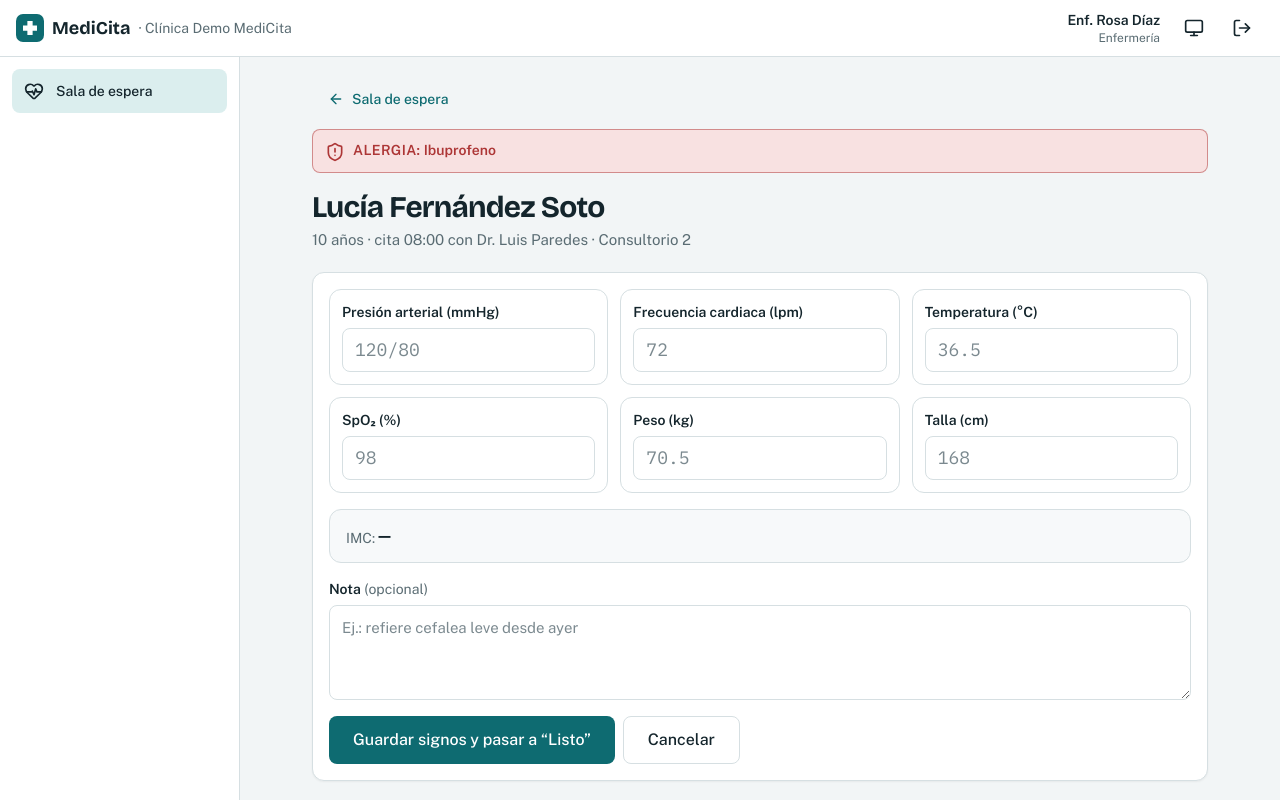
formulario de triaje › valida con el esquema compartido y, al guardar, pasa la cita a "Listo"
Step 1. Type "120" into the field labelled "Presión arterial (mmHg)" → (469, 350), box [342,328,595,372]
Step 2. Type "43" into the field labelled "Temperatura (°C)" → (1051, 350), box [925,328,1178,372]
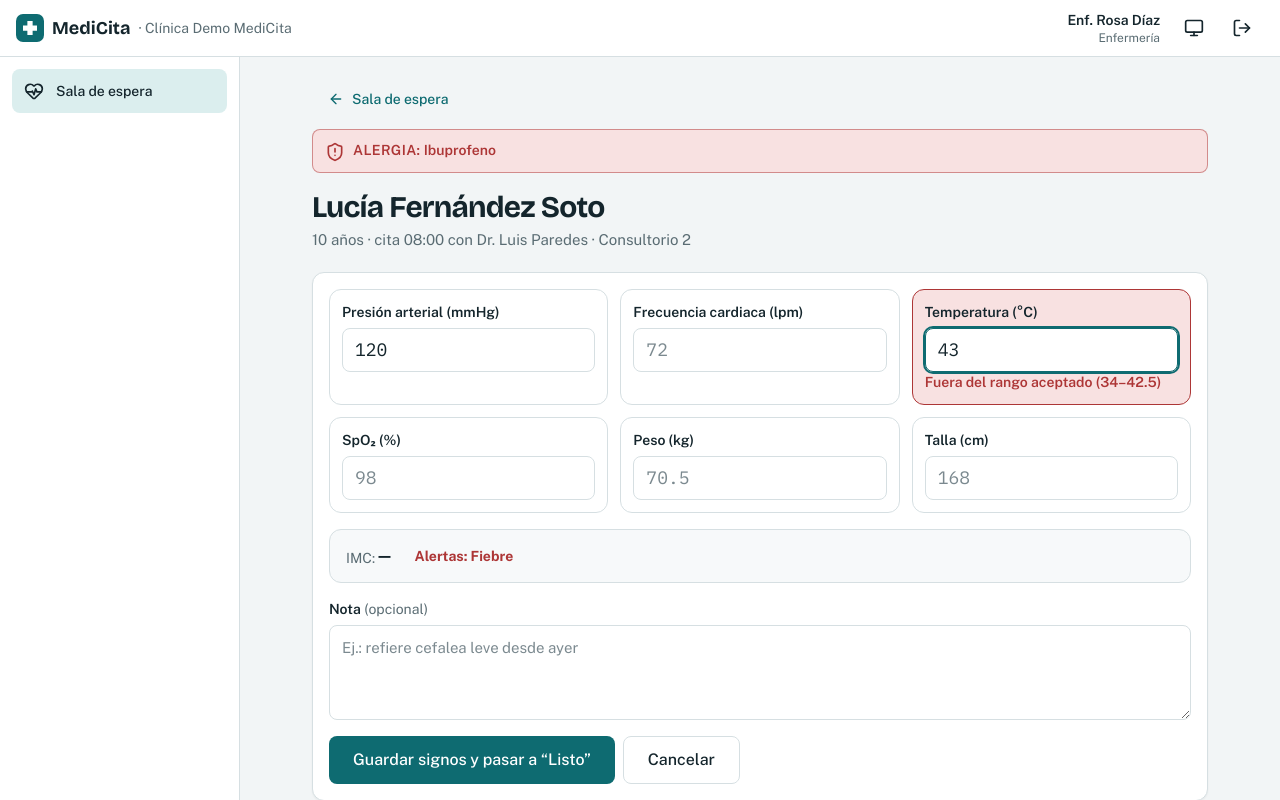
Step 3. Click the button "Guardar signos y pasar a “Listo”" → (472, 760), box [329,736,615,784]
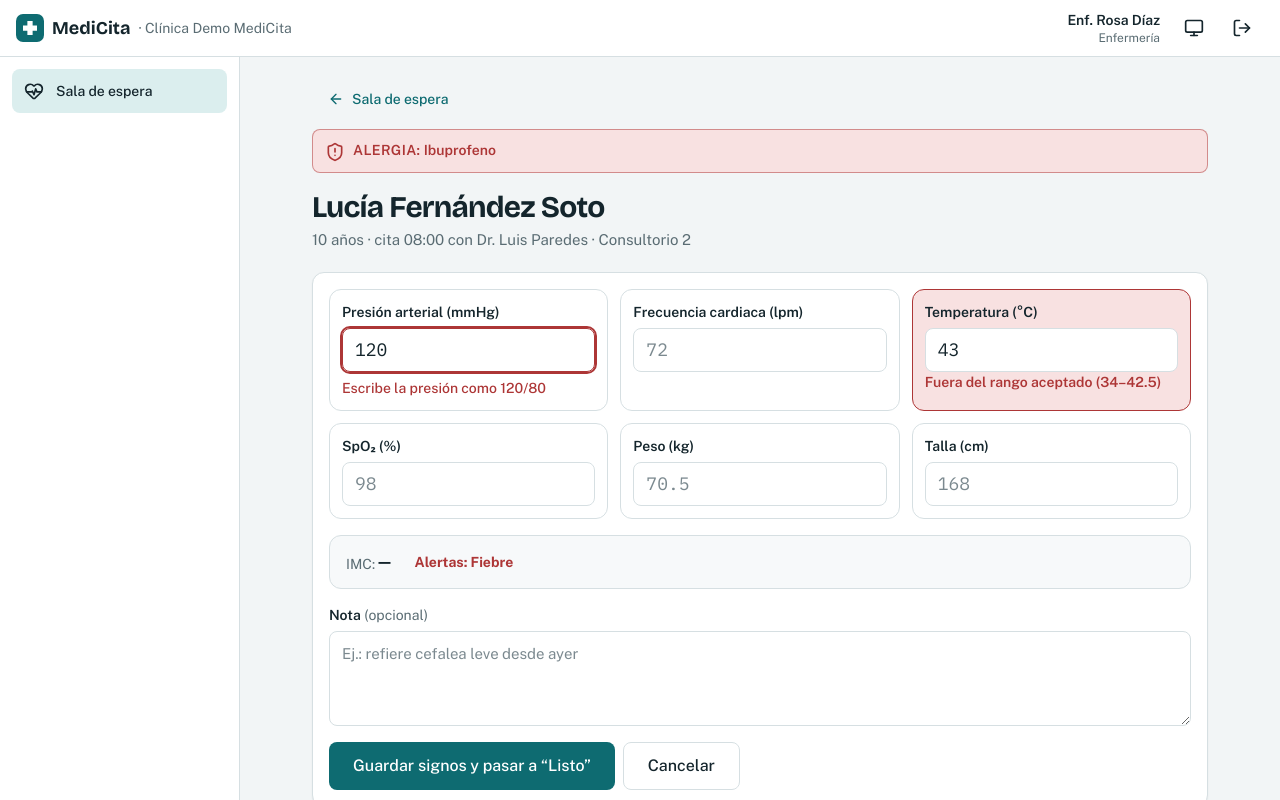
Now the text "Escribe la presión como 120/80" is shown, box [342,380,546,396]
Step 4. Replace the text in the field labelled "Presión arterial (mmHg)" with "110/70" → (469, 350), box [342,328,595,372]
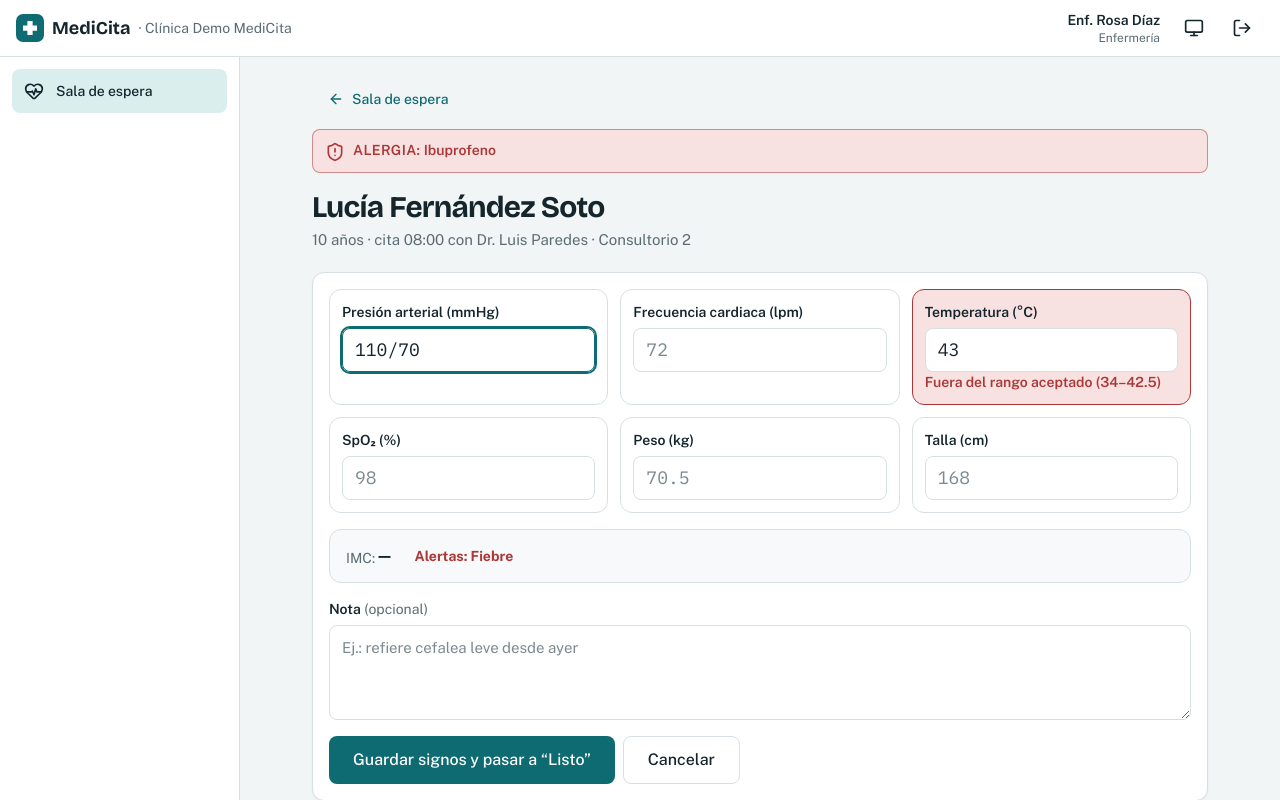
Step 5. Click the button "Guardar signos y pasar a “Listo”" → (472, 760), box [329,736,615,784]
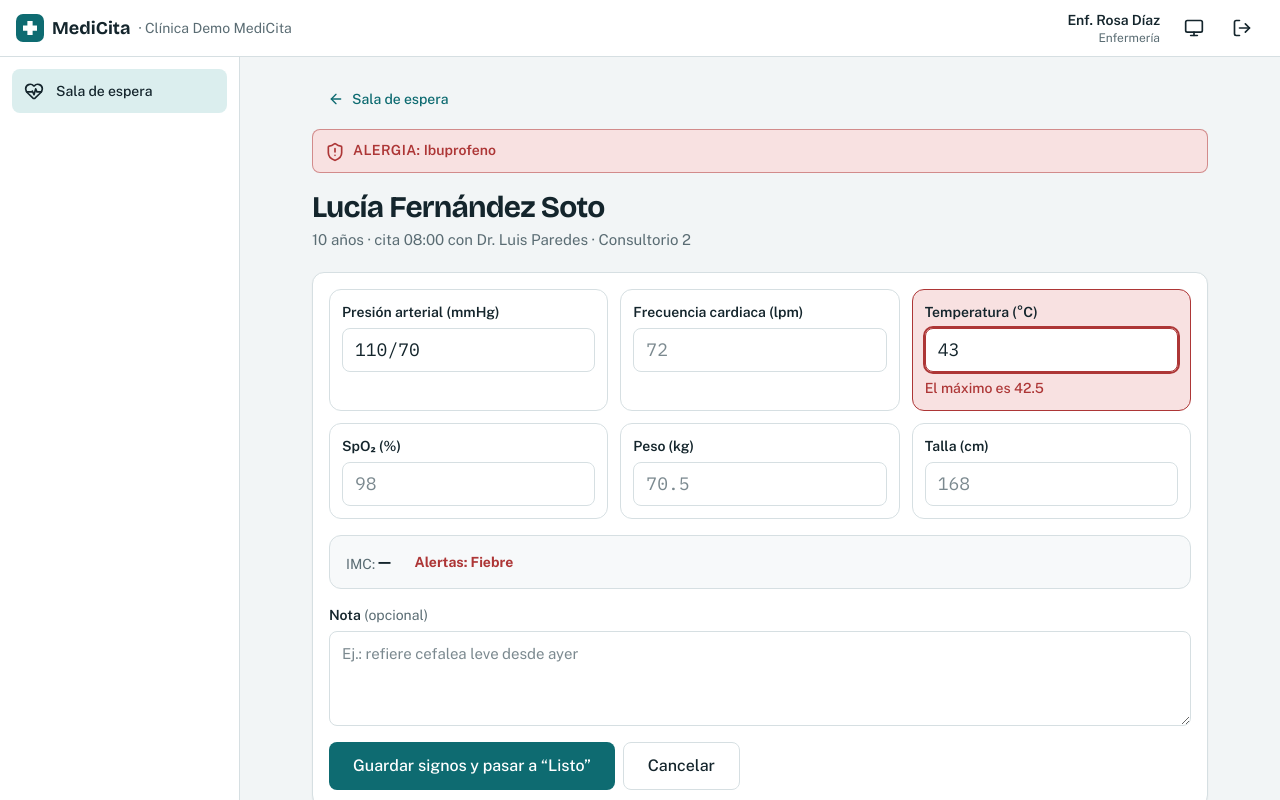
Now the text "El máximo es 42.5" is shown, box [925,380,1044,396]
Step 6. Replace the text in the field labelled "Temperatura (°C)" with "38,5" → (1051, 350), box [925,328,1178,372]
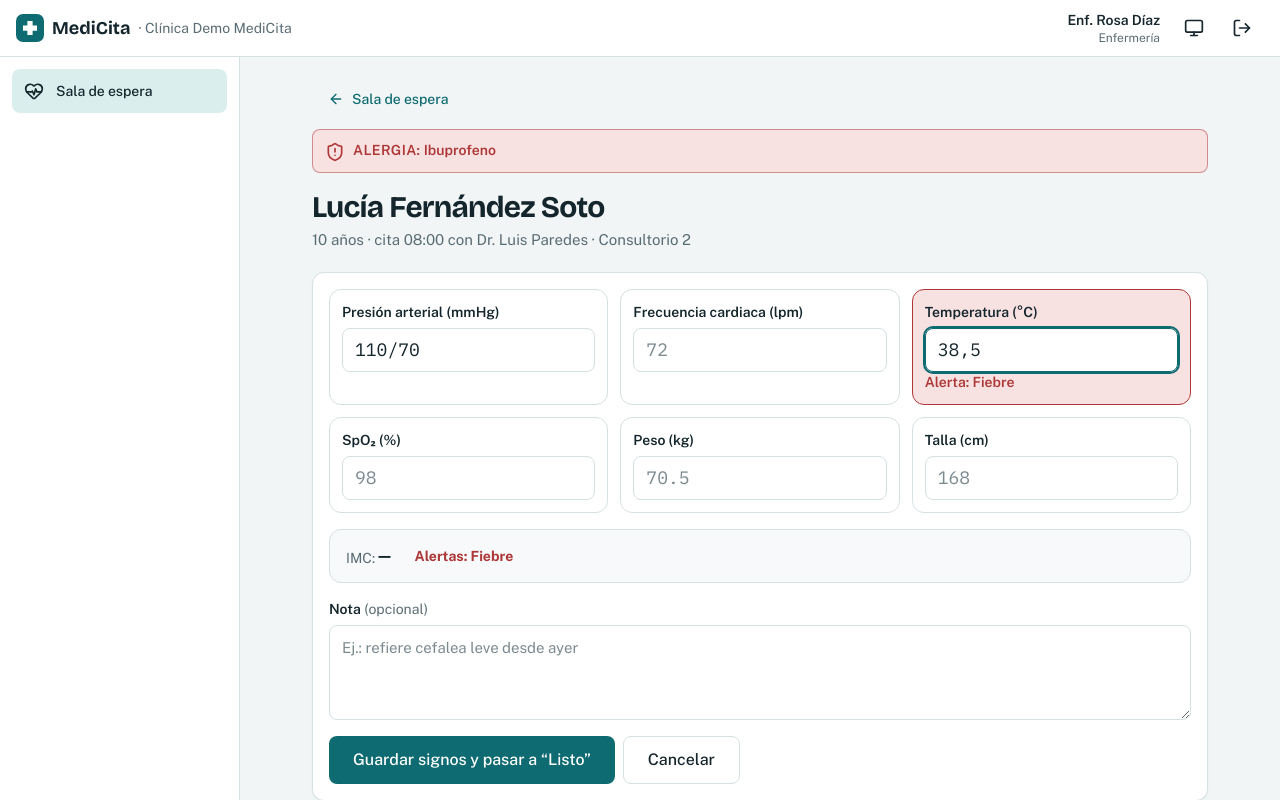
Step 7. Click the button "Guardar signos y pasar a “Listo”" → (472, 760), box [329,736,615,784]
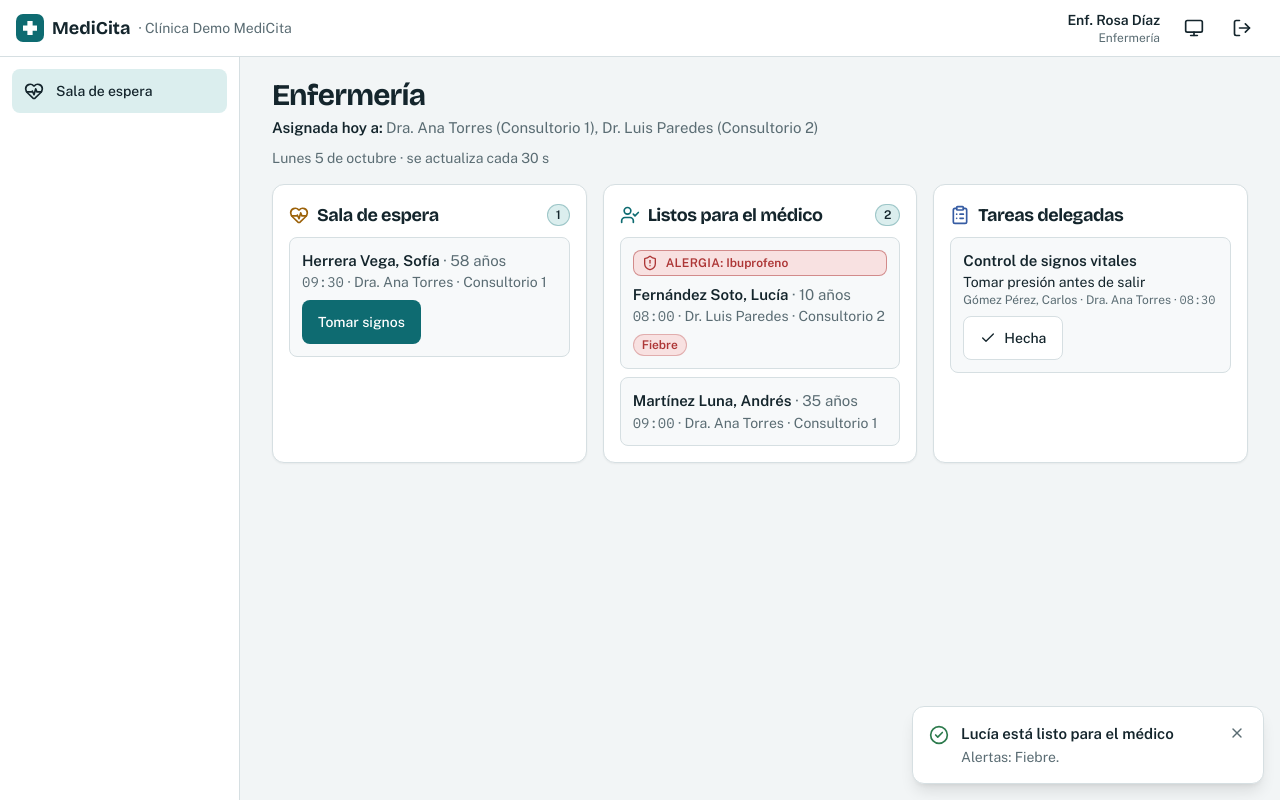
Now the text "Lucía está listo para el médico" is shown, box [961,722,1174,745]
Now the text "Alertas: Fiebre." is shown, box [961,749,1059,765]
Now the text "Fernández Soto, Lucía · 10 años" is shown, box [633,284,885,306]
